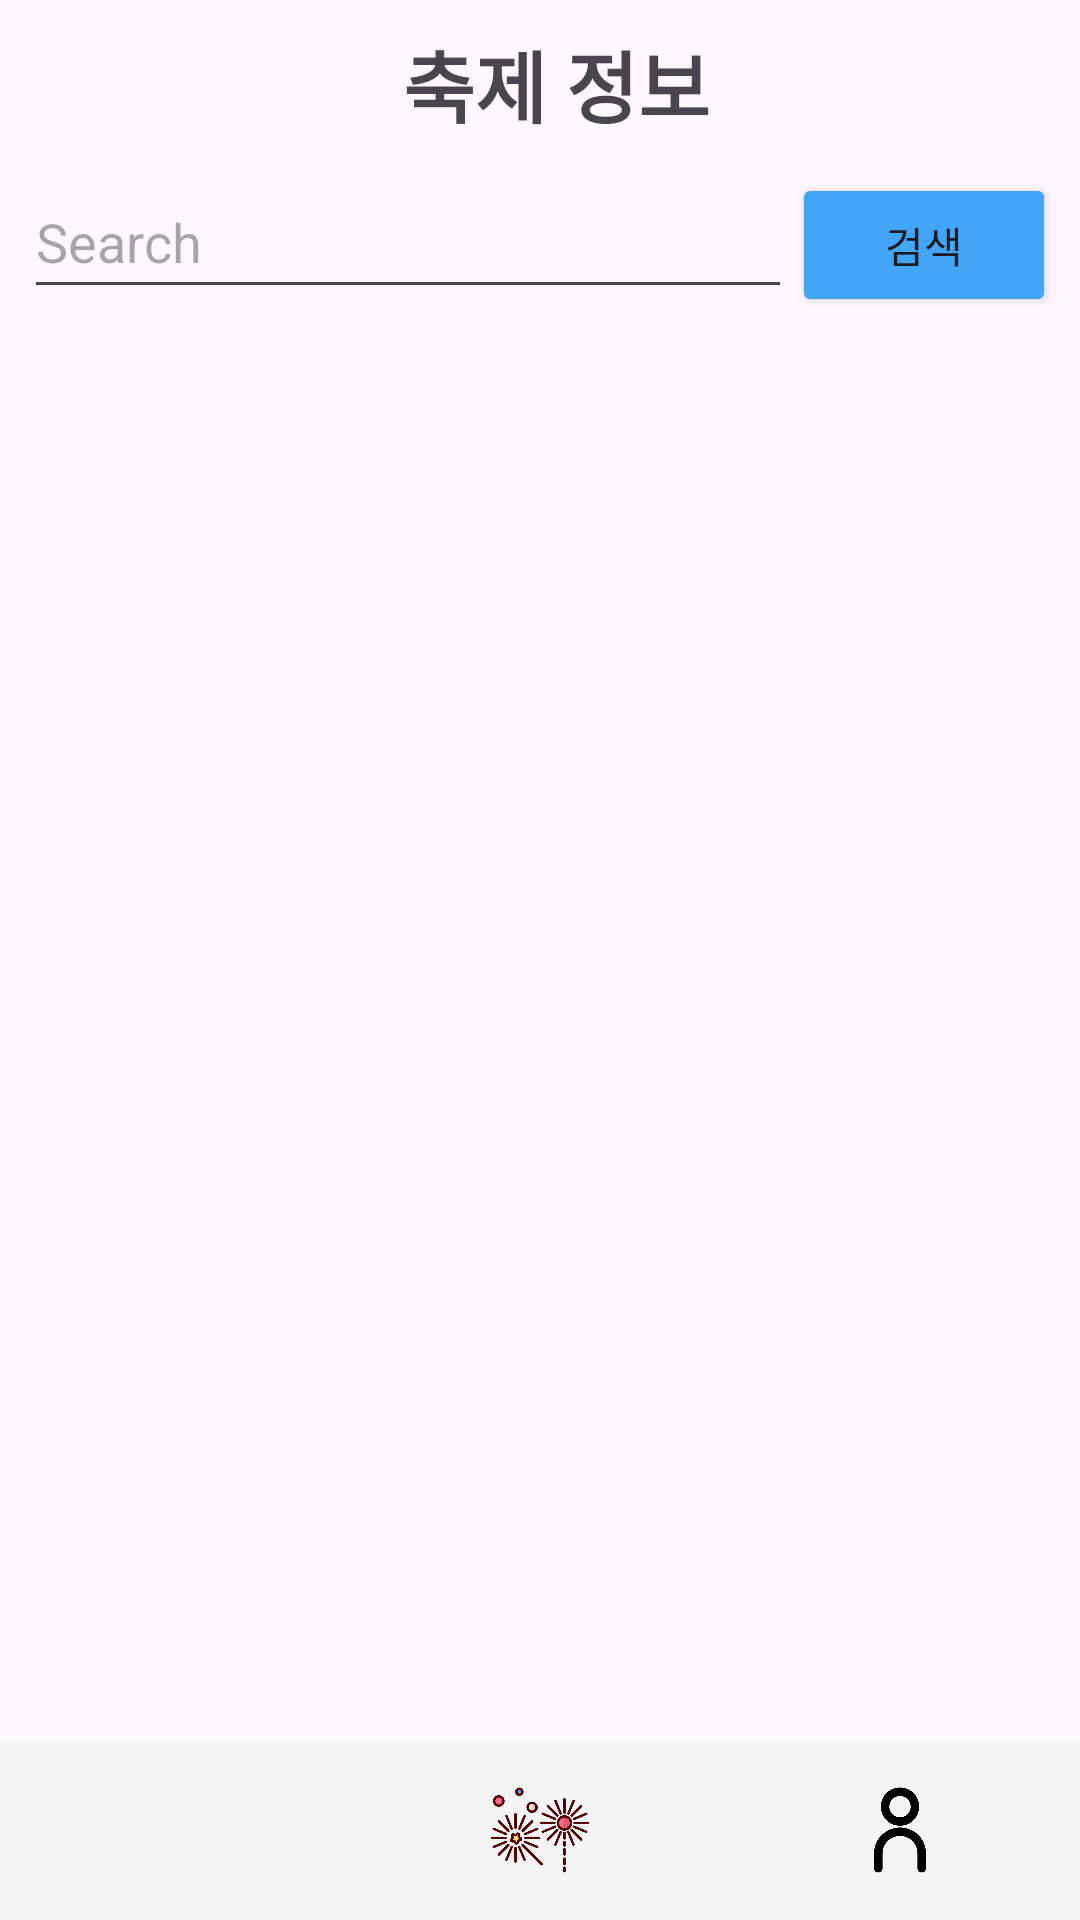

Named icons in this screenshot (1080×1920) and their bounding boxes, (x1, y1, x2, y2):
guy: (874, 1787, 926, 1873)
